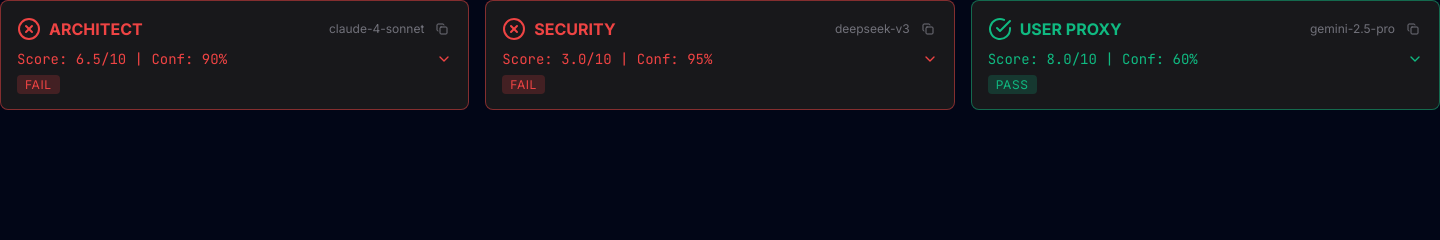
Verdict Component › toggles explanation visibility on click
The width and height of the screenshot is (1440, 240).
Expected: the text "Architecture issues found" is not shown
Click the button "Architect".
click(96, 29)  # box [1, 1, 468, 109]
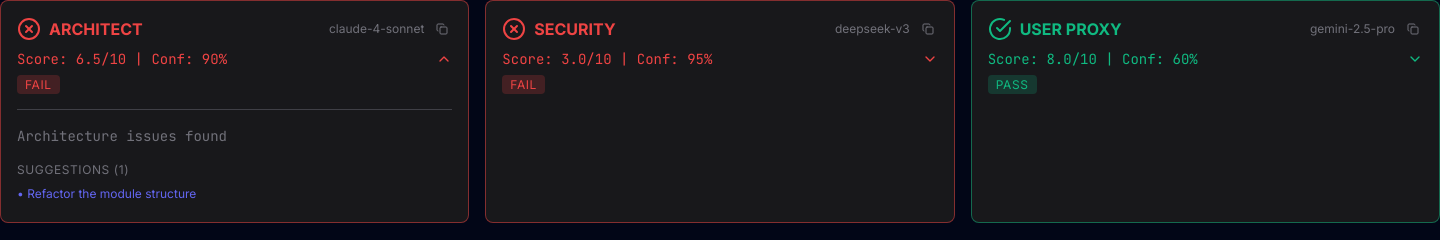
Expected: the text "Architecture issues found" is shown, [17, 127, 227, 145]
Click the button "Architect".
click(96, 29)  # box [1, 1, 468, 109]
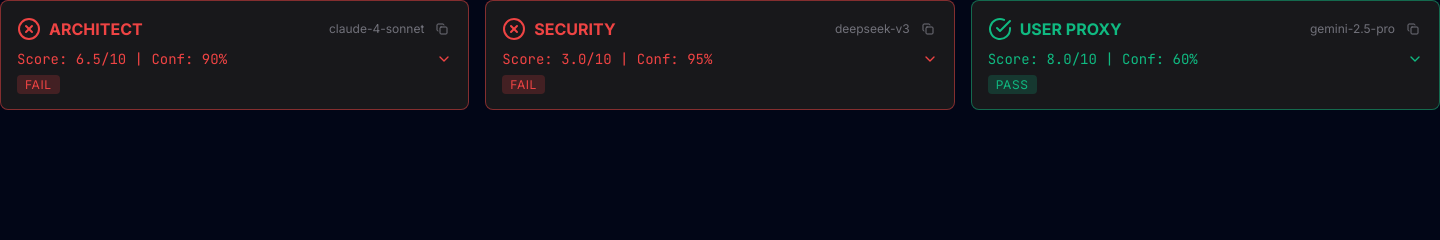
Expected: the text "Architecture issues found" is gone
